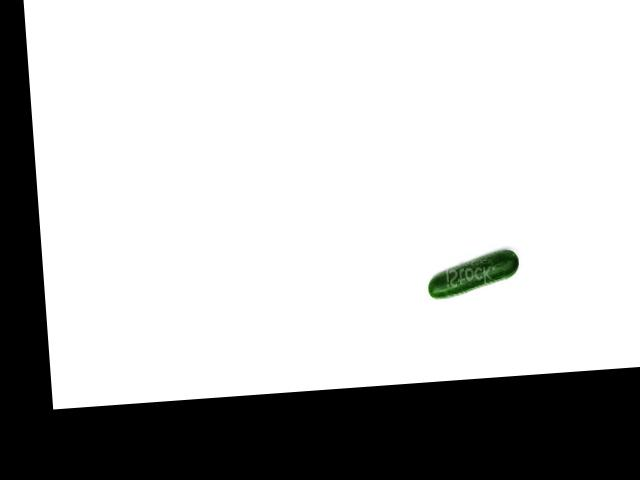cucumber: (426, 249, 521, 299)
